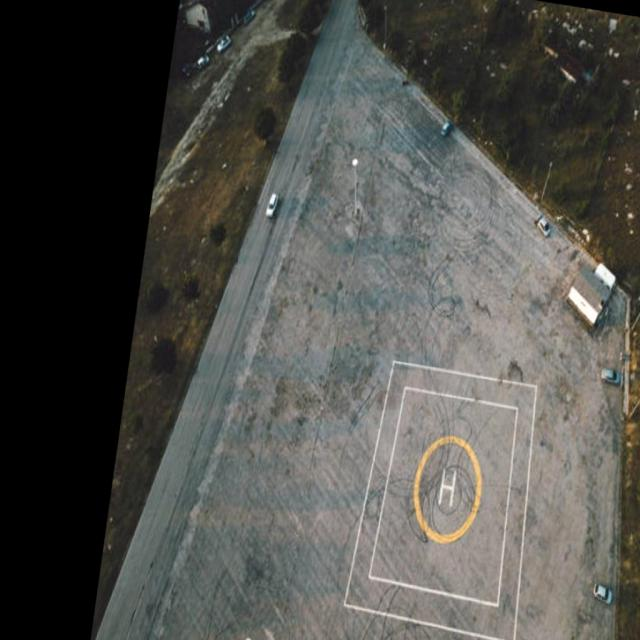helipad: (410, 432, 483, 546)
